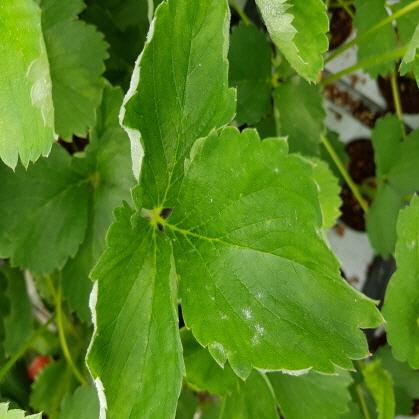Powdery Mildew Leaf: (162, 123, 387, 381), (118, 0, 238, 227), (83, 199, 187, 418), (0, 0, 59, 171), (256, 0, 329, 86)
